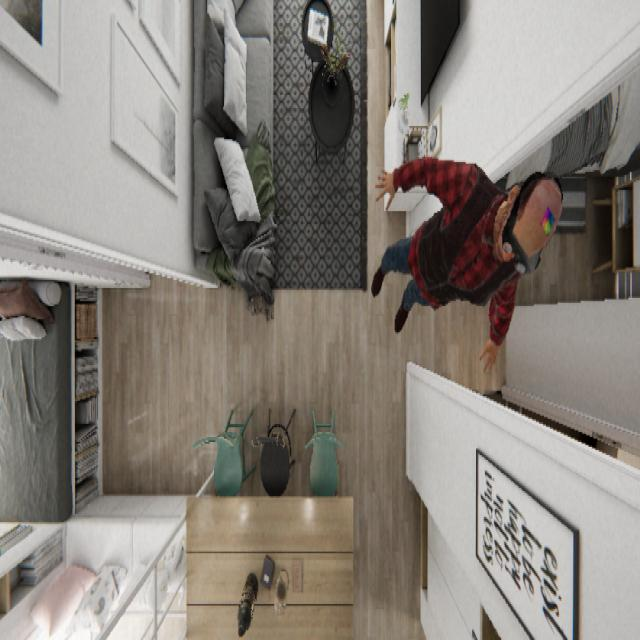Colored-Marker: (538, 203, 556, 239)
Human: (371, 154, 564, 373)
